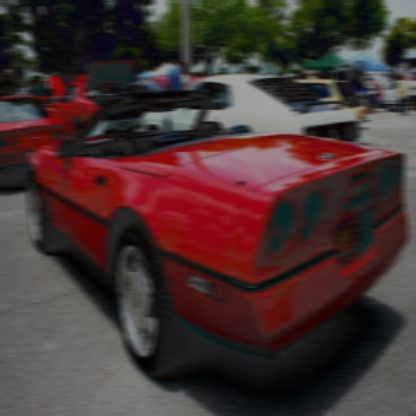Vehicle: (26, 94, 410, 378)
